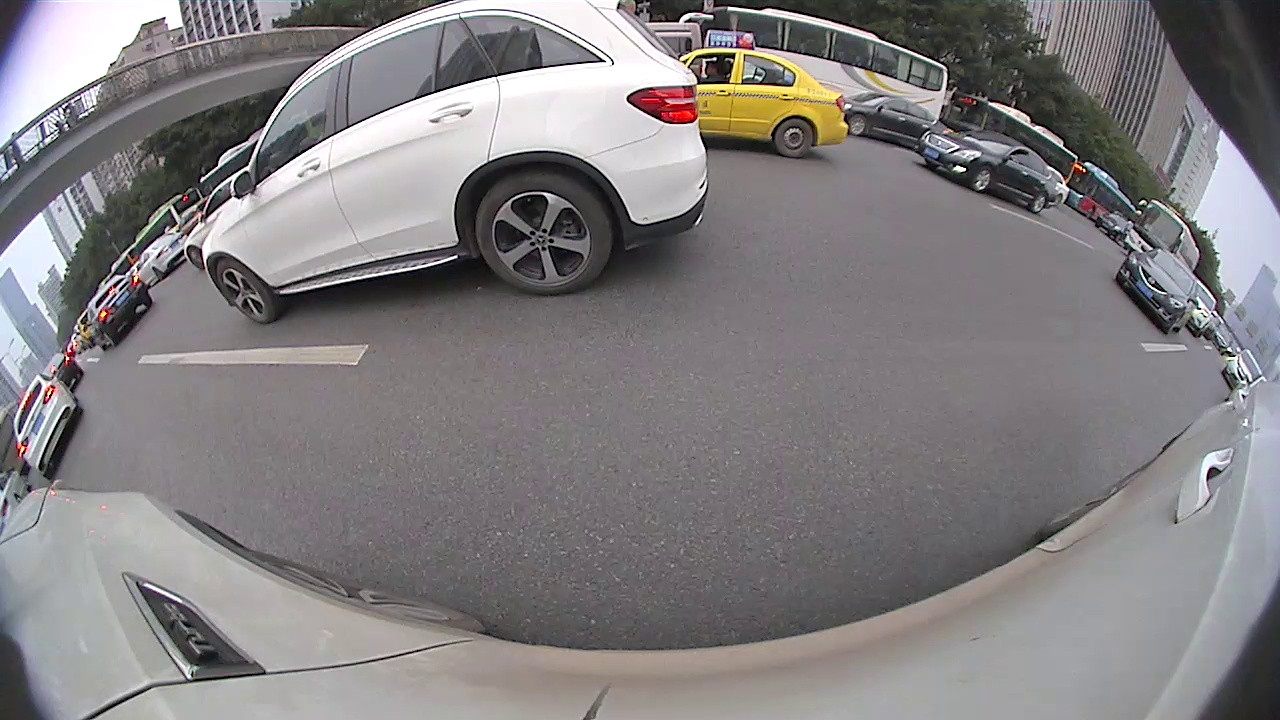bus: (700, 8, 949, 125), (952, 90, 1077, 187), (1123, 197, 1202, 273), (1066, 163, 1144, 227)
car: (204, 2, 710, 326), (671, 45, 846, 159), (918, 125, 1060, 216), (1112, 241, 1200, 339), (6, 374, 85, 482), (839, 87, 943, 147), (86, 274, 153, 349), (132, 232, 187, 286), (1221, 344, 1266, 391)
front: (216, 258, 273, 324), (972, 168, 991, 193), (848, 115, 868, 137)
rear: (473, 174, 609, 295), (775, 120, 814, 156), (1031, 192, 1046, 214)
